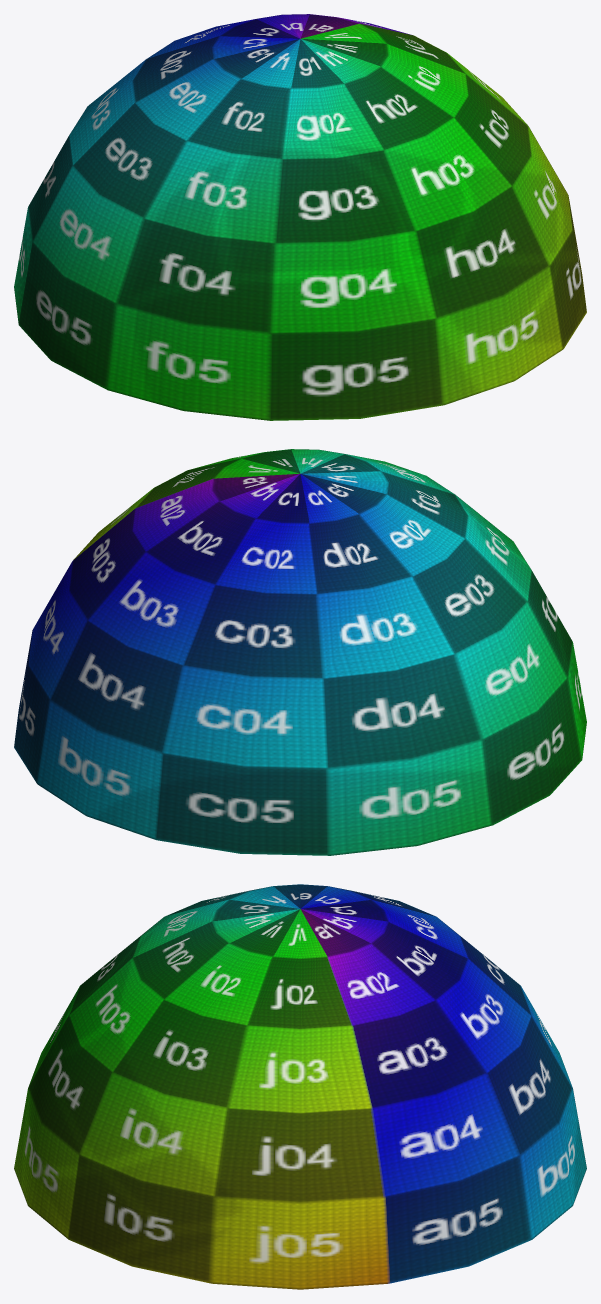
File: EFE_Boss02_Explosion.fbx
3 renders of one model, top to bottom at view 1: azimuth 30°, elevation 25°; view 2: azimuth 150°, elevation 25°; view 3: azimuth 270°, elevation 25°, orthographic.
Visible parts, largest first — view 1: EFE_Boss02_Explosion; view 2: EFE_Boss02_Explosion; view 3: EFE_Boss02_Explosion.
Boxes of the visible parts, x1,y1,x2,y2 form: EFE_Boss02_Explosion: [14, 14, 586, 420]; EFE_Boss02_Explosion: [14, 449, 586, 855]; EFE_Boss02_Explosion: [14, 884, 586, 1289].
Bounding box in the file's own units: 0.02 × 0.01 × 0.02.
1 material, 1 textured.
